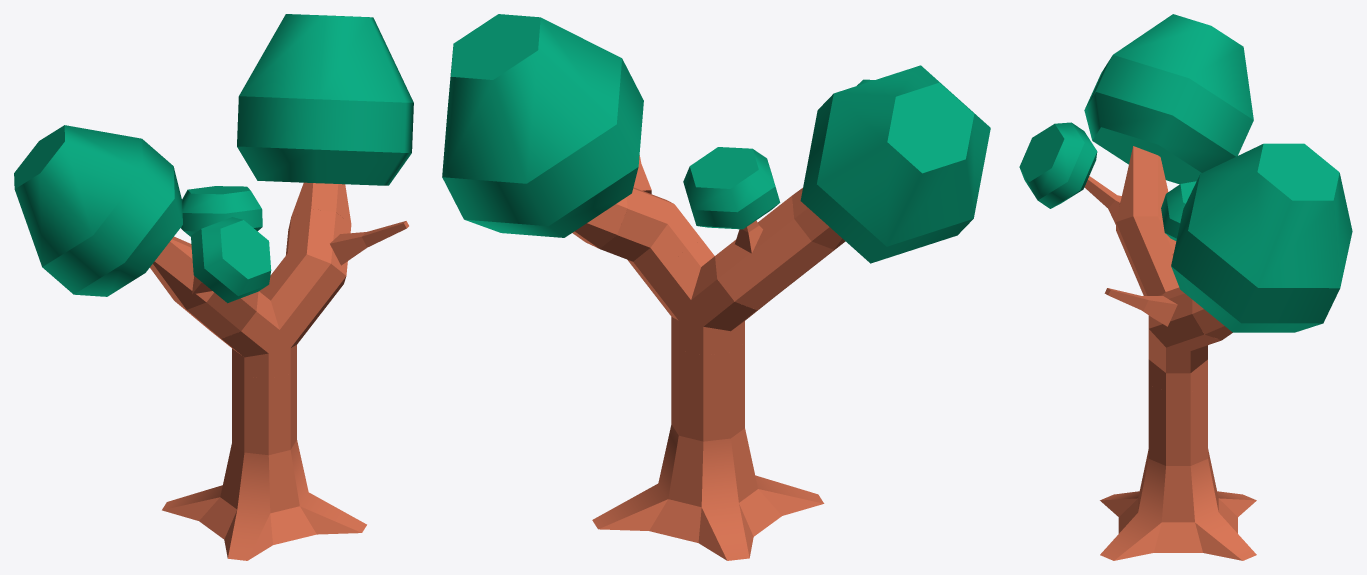
Rendered from tree1.glb.
3 views of the same model, side by side, from view 1: azimuth 30°, elevation 25°; view 2: azimuth 150°, elevation 25°; view 3: azimuth 270°, elevation 25° (orthographic). The views are drawn at different scales.
Visible parts, largest first — view 1: leafs_cone (×2), trunk_baseDetailed, leafs_round (×2), trunk_split, trunk_splitSingle, trunk, trunk_taper (×2), trunk_skewLarge, tree_branchLong; view 2: leafs_cone (×2), trunk_baseDetailed, trunk_split, trunk_skewLarge, trunk, leafs_round, trunk_splitSingle, trunk_taper (×2); view 3: leafs_cone (×2), trunk_baseDetailed, leafs_round (×2), trunk, trunk_skewLarge, trunk_taper (×2), trunk_splitSingle, trunk_split, tree_branchLong, tree_branchLongBend.
Boxes of the visible parts, left/top/right/bottom form: leafs_cone (×2): left=14, top=14, right=413, bottom=296; trunk_baseDetailed: left=162, top=440, right=366, bottom=560; leafs_round (×2): left=181, top=186, right=271, bottom=303; trunk_split: left=211, top=276, right=319, bottom=379; trunk_splitSingle: left=270, top=209, right=351, bottom=314; trunk: left=232, top=364, right=296, bottom=455; trunk_taper (×2): left=150, top=182, right=351, bottom=309; trunk_skewLarge: left=177, top=292, right=258, bottom=338; tree_branchLong: left=330, top=221, right=408, bottom=265; leafs_cone (×2): left=442, top=14, right=990, bottom=263; trunk_baseDetailed: left=592, top=424, right=824, bottom=560; trunk_split: left=645, top=239, right=769, bottom=355; trunk_skewLarge: left=715, top=196, right=844, bottom=309; trunk: left=671, top=338, right=744, bottom=441; leafs_round: left=683, top=147, right=780, bottom=229; trunk_splitSingle: left=600, top=187, right=701, bottom=282; trunk_taper (×2): left=572, top=188, right=845, bottom=249; leafs_cone (×2): left=1084, top=14, right=1352, bottom=332; trunk_baseDetailed: left=1100, top=449, right=1256, bottom=560; leafs_round (×2): left=1019, top=122, right=1196, bottom=240; trunk: left=1148, top=384, right=1207, bottom=465; trunk_skewLarge: left=1116, top=216, right=1178, bottom=295; trunk_taper (×2): left=1116, top=146, right=1232, bottom=340; trunk_splitSingle: left=1148, top=287, right=1221, bottom=360; trunk_split: left=1148, top=294, right=1207, bottom=391; tree_branchLong: left=1104, top=288, right=1177, bottom=326; tree_branchLongBend: left=1084, top=176, right=1121, bottom=224.
Size of the model in its own units: 2.95 by 2.92 by 2.03.
